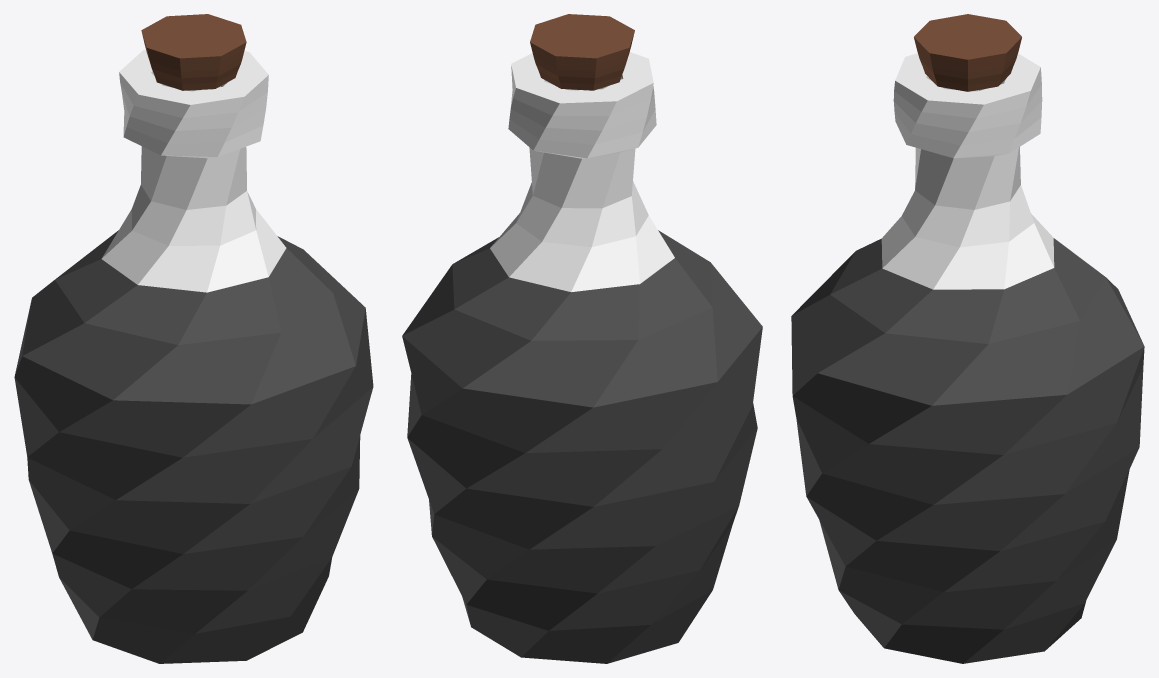
File: medium_potion_gray.fbx
3 views of the same model, side by side, from view 1: azimuth 30°, elevation 25°; view 2: azimuth 150°, elevation 25°; view 3: azimuth 270°, elevation 25° (orthographic).
Parts seen in each view (by area): view 1: graypotion; view 2: graypotion; view 3: graypotion.
Boxes of the visible parts, x1=… form: graypotion: x1=14, y1=14, x2=373, y2=663; graypotion: x1=402, y1=14, x2=762, y2=663; graypotion: x1=791, y1=14, x2=1144, y2=663.
Bounding box in the file's own units: 45.48 × 82.28 × 45.48.
